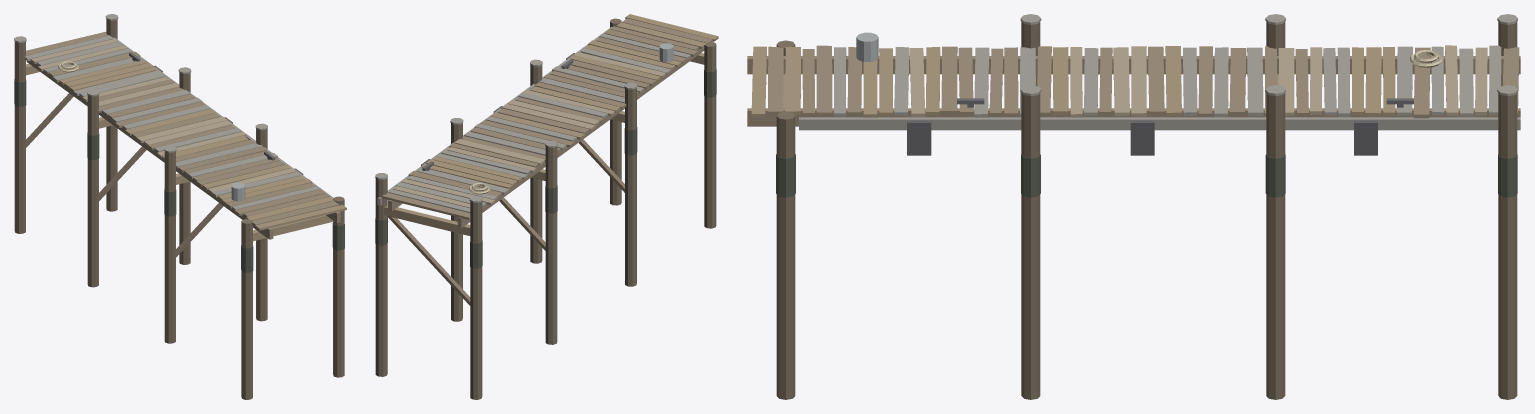
Rendered from launchdock.glb.
3 renders of one model, left to right at view 1: azimuth 30°, elevation 25°; view 2: azimuth 150°, elevation 25°; view 3: azimuth 270°, elevation 25°, orthographic. The views are drawn at different scales.
Visible parts, largest first — view 1: LaunchDock_post1-0.98, LaunchDock_post2-0.98, LaunchDock_post3-0.98, LaunchDock_post0-0.98, LaunchDock_post00.98, LaunchDock_post10.98, LaunchDock_post30.98, LaunchDock_post20.98, LaunchDock_stringer-0.72, LaunchDock_cap0, LaunchDock_plank0, LaunchDock_plank4 (+56 smaller); view 2: LaunchDock_post3-0.98, LaunchDock_post2-0.98, LaunchDock_post30.98, LaunchDock_post0-0.98, LaunchDock_post1-0.98, LaunchDock_post10.98, LaunchDock_post20.98, LaunchDock_post00.98, LaunchDock_stringer-0.72, LaunchDock_cap3, LaunchDock_brace3, LaunchDock_plank48 (+56 smaller); view 3: LaunchDock_rubrail, LaunchDock_post20.98, LaunchDock_post30.98, LaunchDock_post10.98, LaunchDock_post00.98, LaunchDock_stringer0.72, LaunchDock_stringer-0.72, LaunchDock_plank4, LaunchDock_plank26, LaunchDock_plank24, LaunchDock_plank31, LaunchDock_plank39 (+50 smaller).
Boxes of the visible parts, <box> form: LaunchDock_post1-0.98: <box>164,151,175,343</box>; LaunchDock_post2-0.98: <box>87,95,98,287</box>; LaunchDock_post3-0.98: <box>14,41,25,233</box>; LaunchDock_post0-0.98: <box>241,219,252,399</box>; LaunchDock_post00.98: <box>333,196,344,377</box>; LaunchDock_post10.98: <box>256,129,267,321</box>; LaunchDock_post30.98: <box>106,19,117,211</box>; LaunchDock_post20.98: <box>179,72,190,264</box>; LaunchDock_stringer-0.72: <box>26,60,273,239</box>; LaunchDock_cap0: <box>253,215,333,241</box>; LaunchDock_plank0: <box>255,204,346,230</box>; LaunchDock_plank4: <box>234,189,325,215</box>; LaunchDock_post3-0.98: <box>470,201,482,399</box>; LaunchDock_post2-0.98: <box>545,146,557,344</box>; LaunchDock_post30.98: <box>375,178,387,376</box>; LaunchDock_post0-0.98: <box>704,41,716,228</box>; LaunchDock_post1-0.98: <box>625,88,636,286</box>; LaunchDock_post10.98: <box>530,65,542,263</box>; LaunchDock_post20.98: <box>451,123,462,321</box>; LaunchDock_post00.98: <box>610,18,621,205</box>; LaunchDock_stringer-0.72: <box>457,47,704,228</box>; LaunchDock_cap3: <box>384,204,470,235</box>; LaunchDock_brace3: <box>387,216,470,305</box>; LaunchDock_plank48: <box>381,192,470,219</box>; LaunchDock_rubrail: <box>799,117,1520,130</box>; LaunchDock_post20.98: <box>1266,93,1285,399</box>; LaunchDock_post30.98: <box>1498,93,1517,399</box>; LaunchDock_post10.98: <box>1021,93,1040,399</box>; LaunchDock_post00.98: <box>776,111,795,399</box>; LaunchDock_stringer0.72: <box>747,108,1520,126</box>; LaunchDock_stringer-0.72: <box>747,56,1520,74</box>; LaunchDock_plank4: <box>816,45,832,116</box>; LaunchDock_plank26: <box>1165,46,1181,116</box>; LaunchDock_plank24: <box>1131,46,1146,116</box>; LaunchDock_plank31: <box>1247,47,1263,116</box>; LaunchDock_plank39: <box>1365,47,1381,116</box>.
Bounding box in the file's own units: 2.2 × 3.94 × 9.
